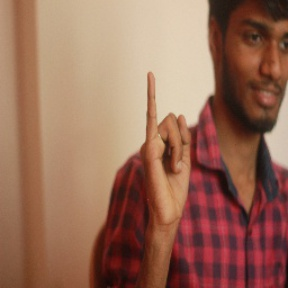I: (135, 69, 198, 222)
